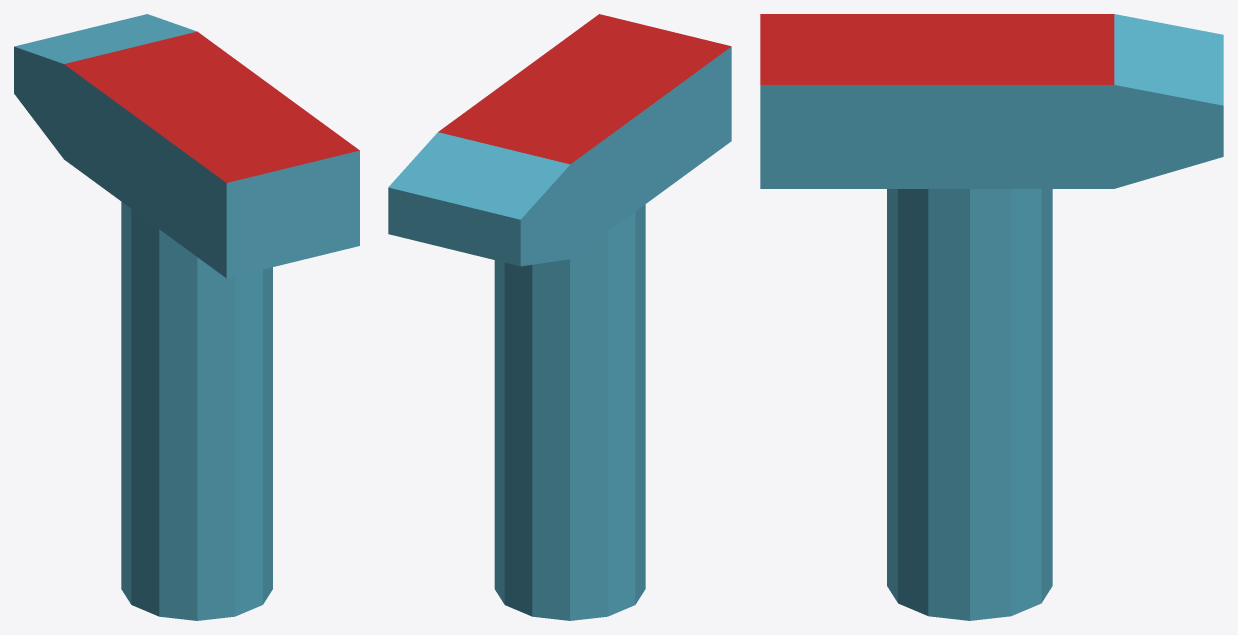
File: UIBuild.fbx
3 views of the same model, side by side, from view 1: azimuth 30°, elevation 25°; view 2: azimuth 150°, elevation 25°; view 3: azimuth 270°, elevation 25° (orthographic). The views are drawn at different scales.
Parts seen in each view (by area): view 1: Cylinder.001; view 2: Cylinder.001; view 3: Cylinder.001.
Part boxes in pixels (<box>): Cylinder.001: <box>14,14,359,620</box>; Cylinder.001: <box>388,14,731,620</box>; Cylinder.001: <box>760,14,1223,620</box>.
Bounding box in the file's own units: 20.28 × 71.51 × 55.95.
